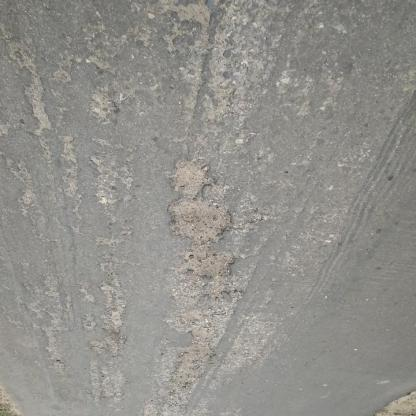pothole: (165, 201, 236, 247), (170, 327, 220, 391), (175, 249, 239, 281), (169, 157, 215, 201), (23, 77, 55, 140), (172, 3, 214, 30), (89, 92, 119, 124)
